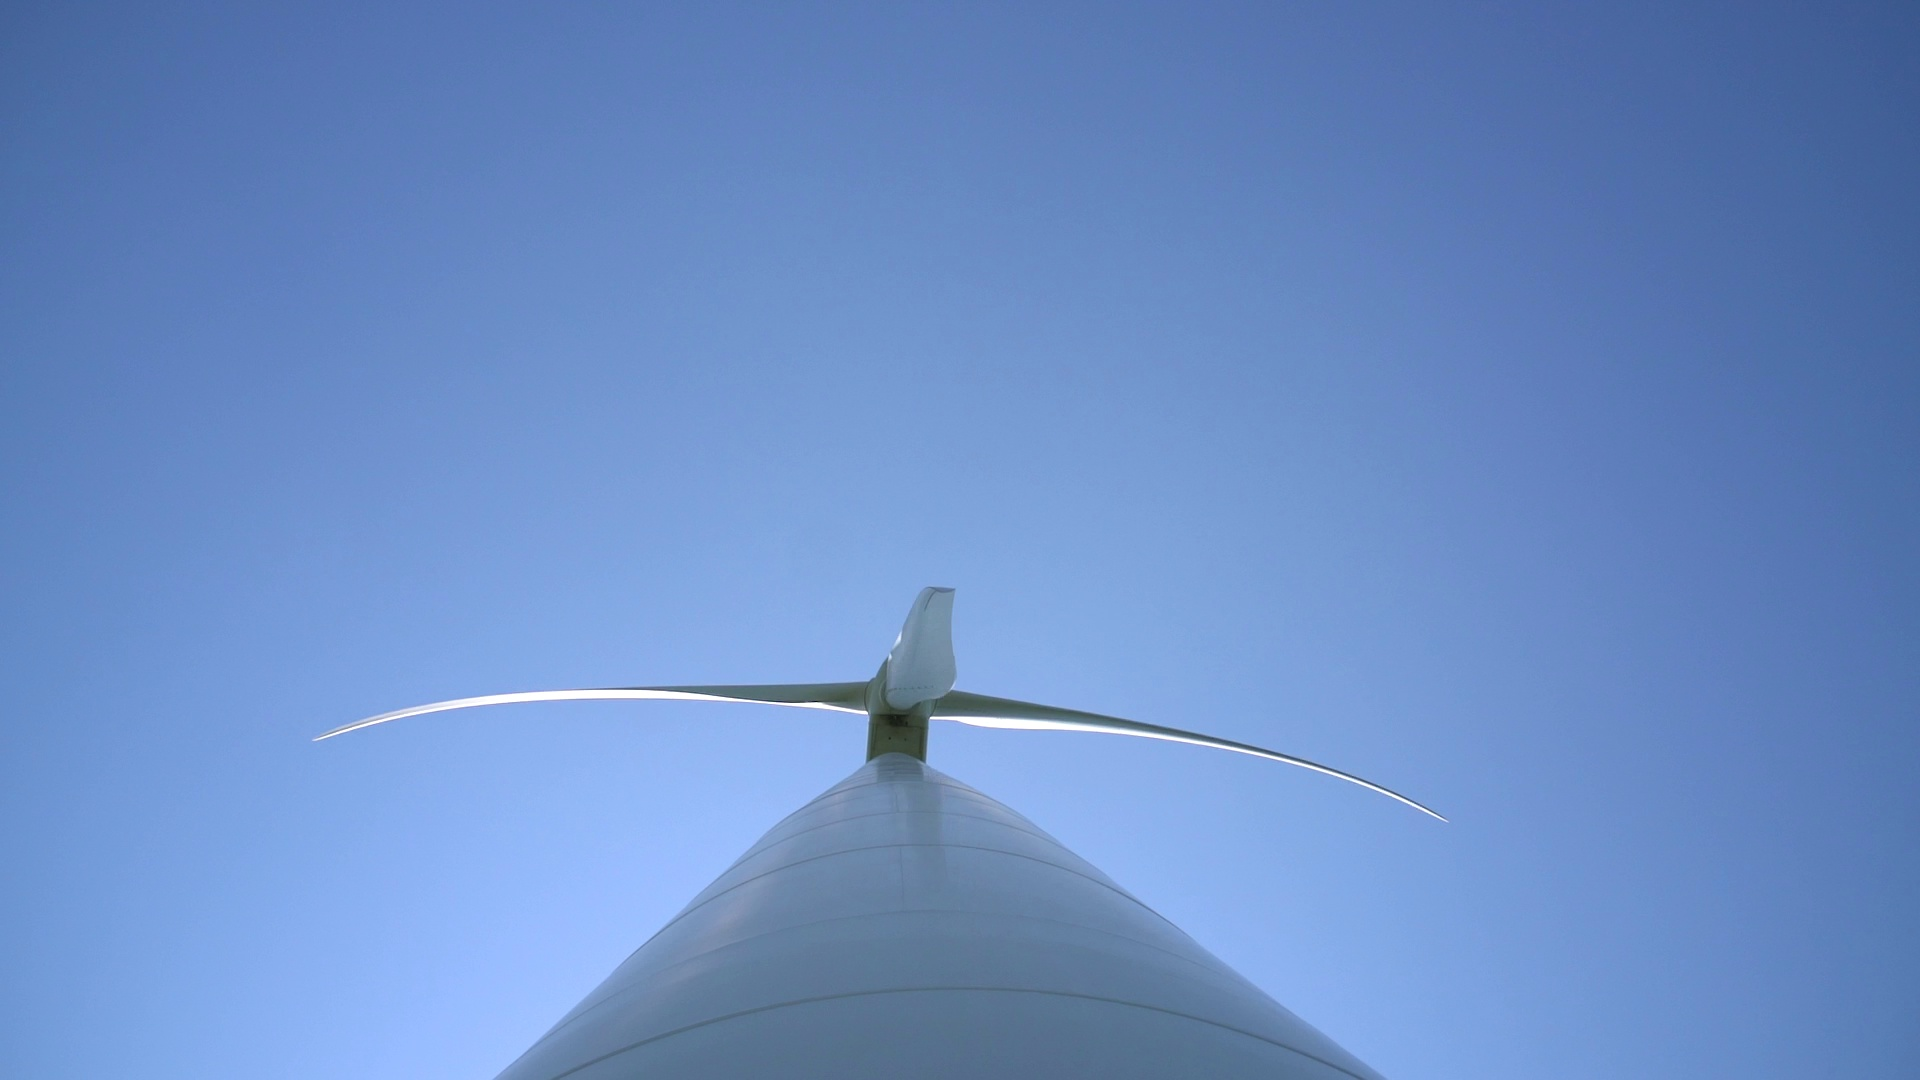turbine: (936, 669, 1514, 820), (276, 661, 874, 760), (889, 541, 990, 748)
